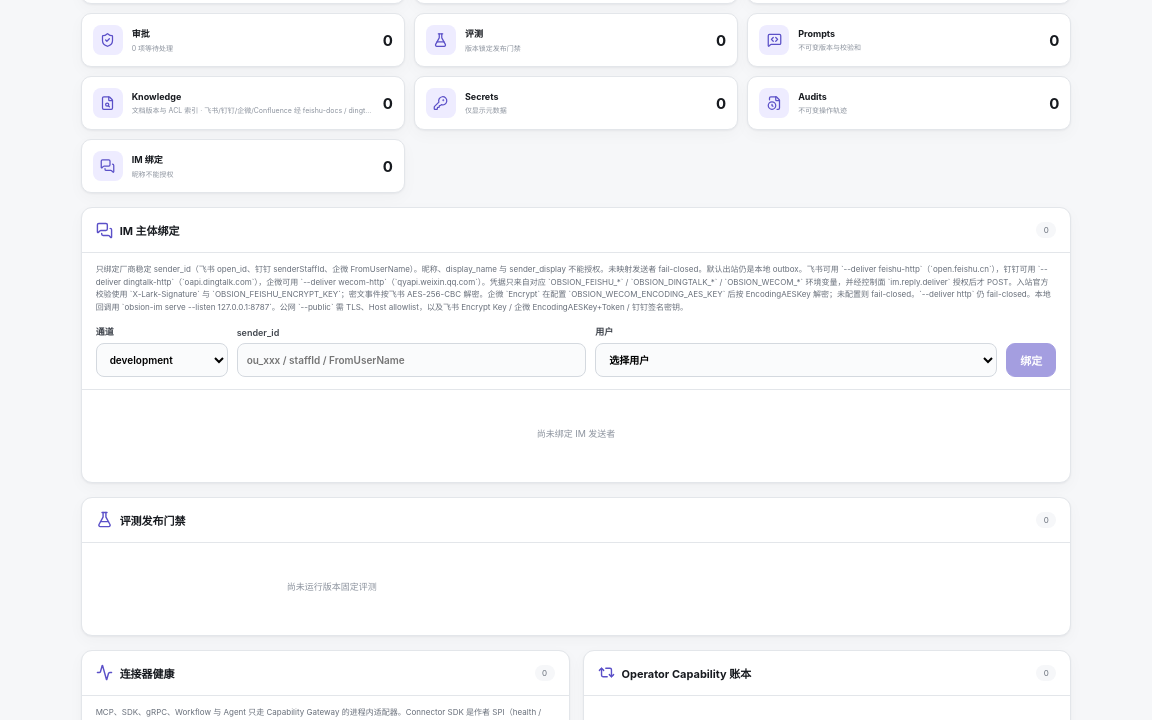
Test: AdminView interactions › creates an IM principal binding with the stable sender id and refreshes
Expected: the text "尚未绑定 IM 发送者" is shown, x1=537 y1=428 x2=615 y2=439
Select "feishu" in the dropdown labelled "通道" at (162, 360), box x1=96 y1=343 x2=228 y2=377
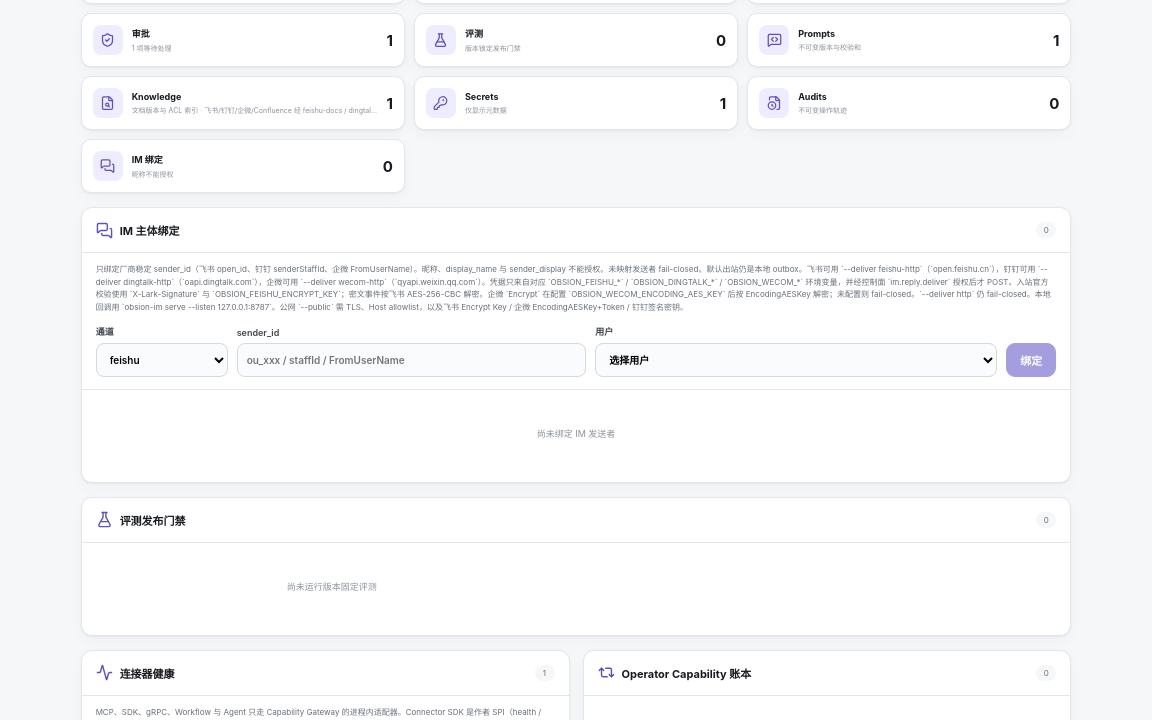
Type "  ou_test_sender  " into the field labelled "sender_id" at (411, 360), box x1=237 y1=343 x2=586 y2=377
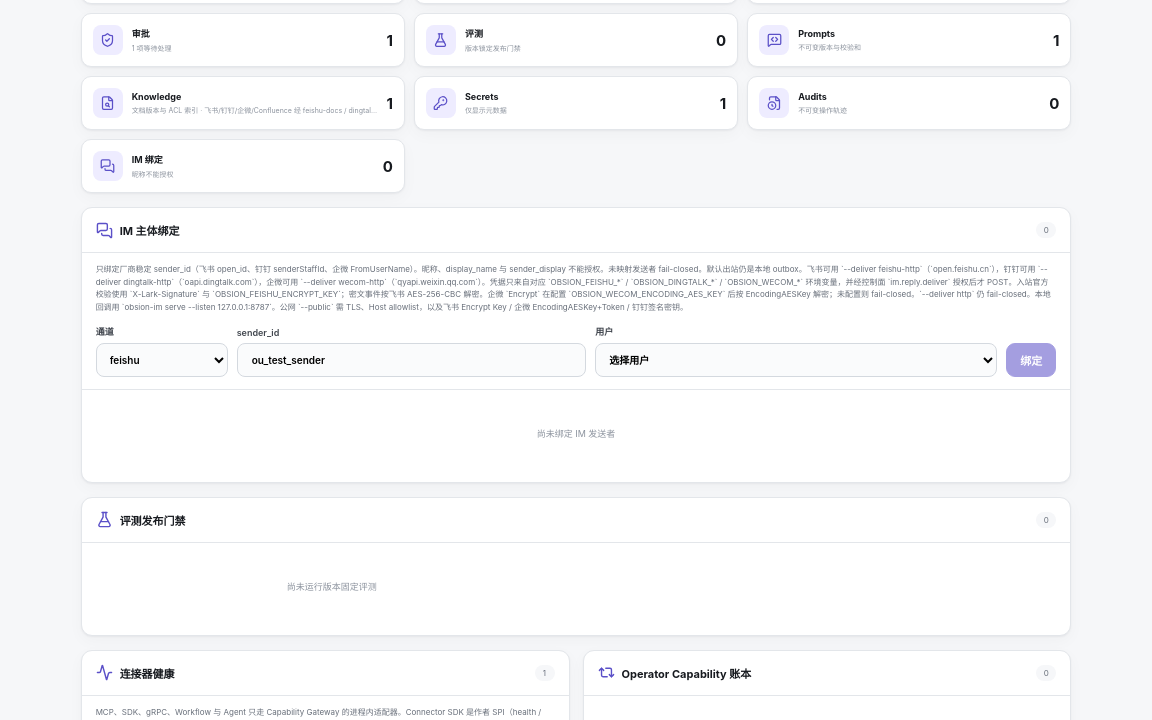
Select "王晓 · wangxiao@example.com" in the dropdown labelled "用户" at (796, 360), box x1=595 y1=343 x2=997 y2=377
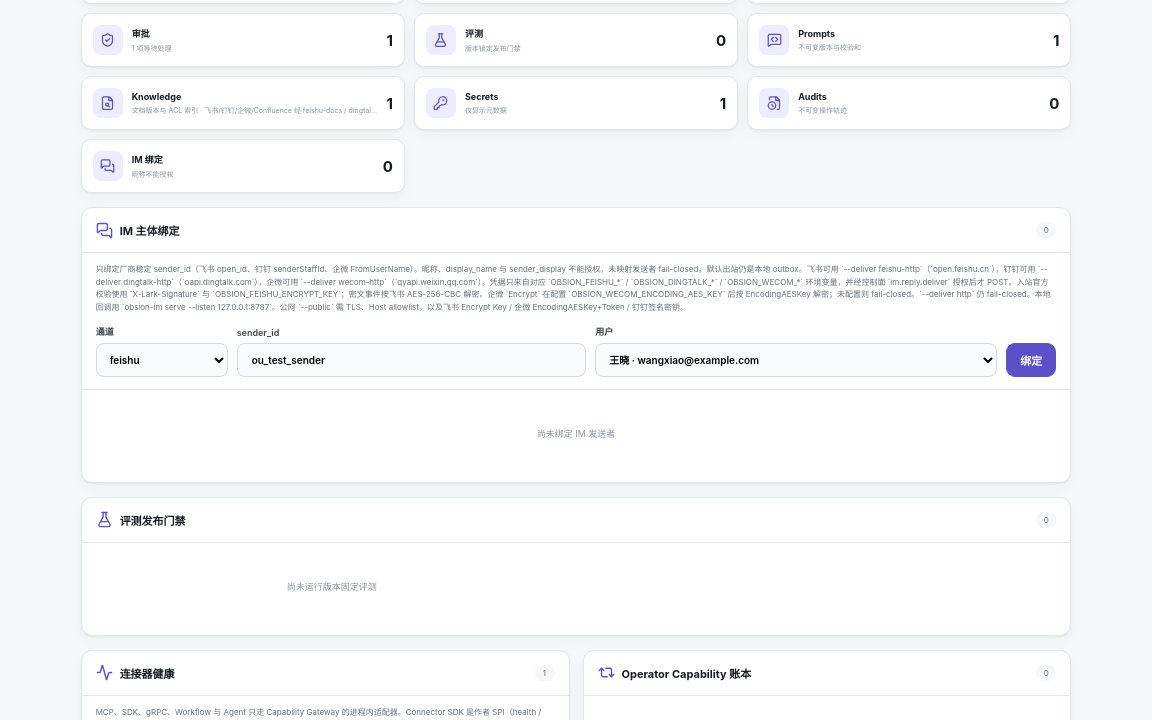
Click the button "绑定" at (1031, 360), box x1=1006 y1=343 x2=1056 y2=377
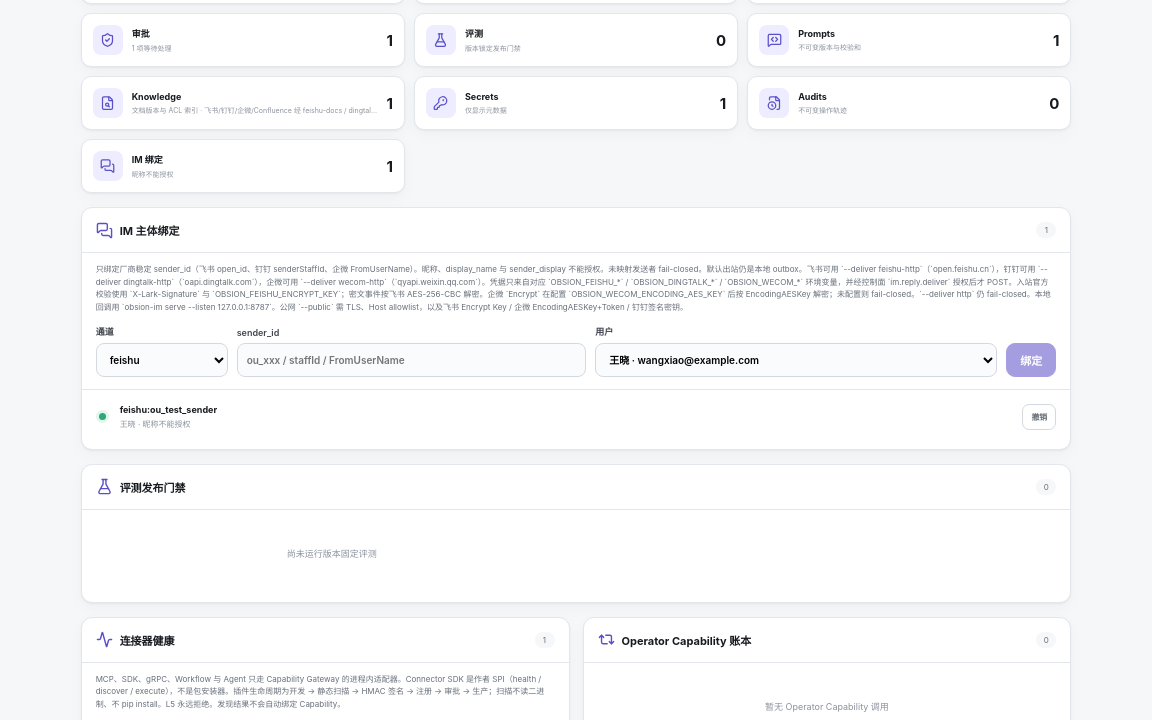
Expected: the text "feishu:ou_test_sender" is shown, x1=120 y1=404 x2=217 y2=416
